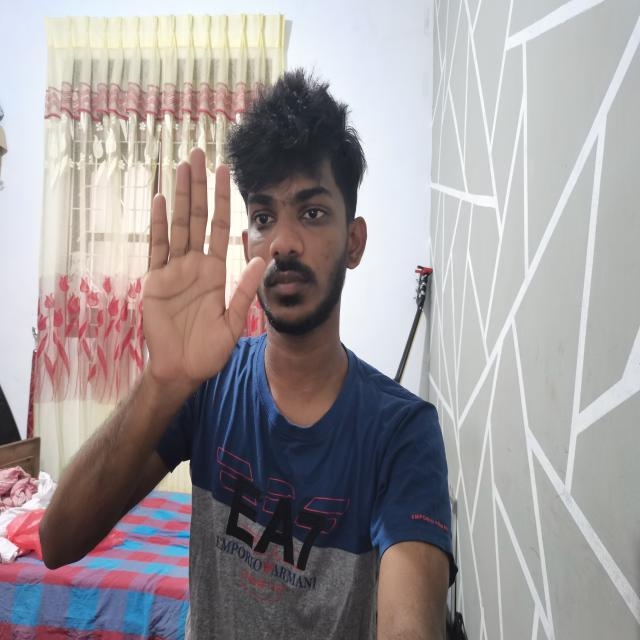Hello: (130, 143, 268, 394)
